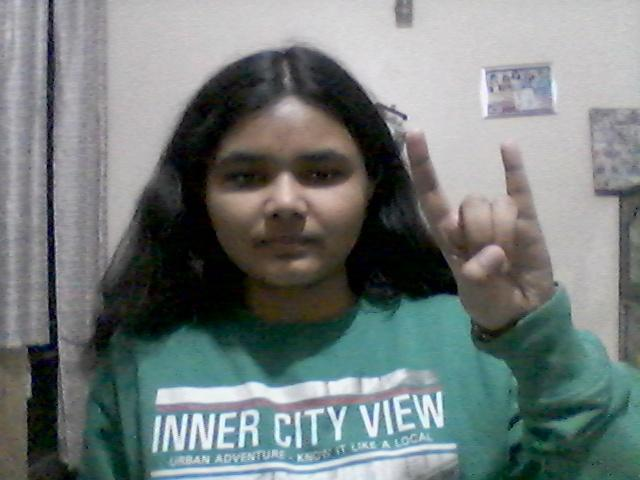ilove you: (392, 121, 578, 343)
